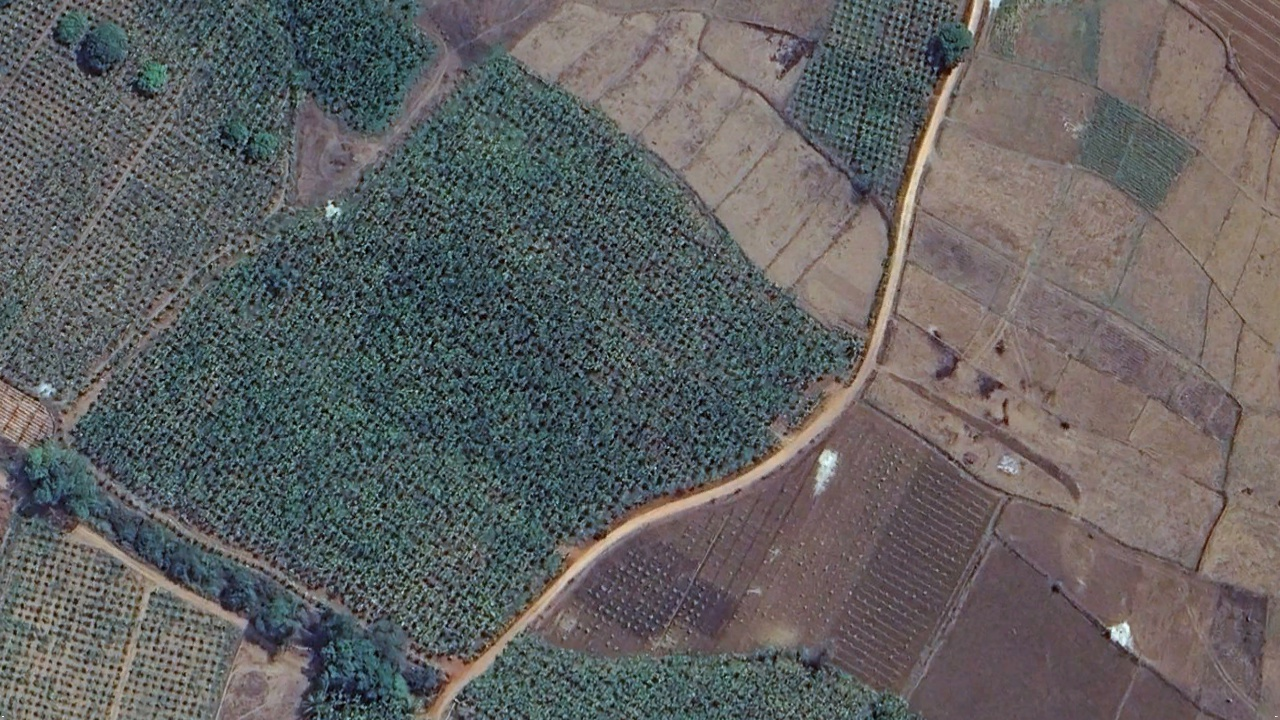arecanut: (1, 8, 939, 719)
